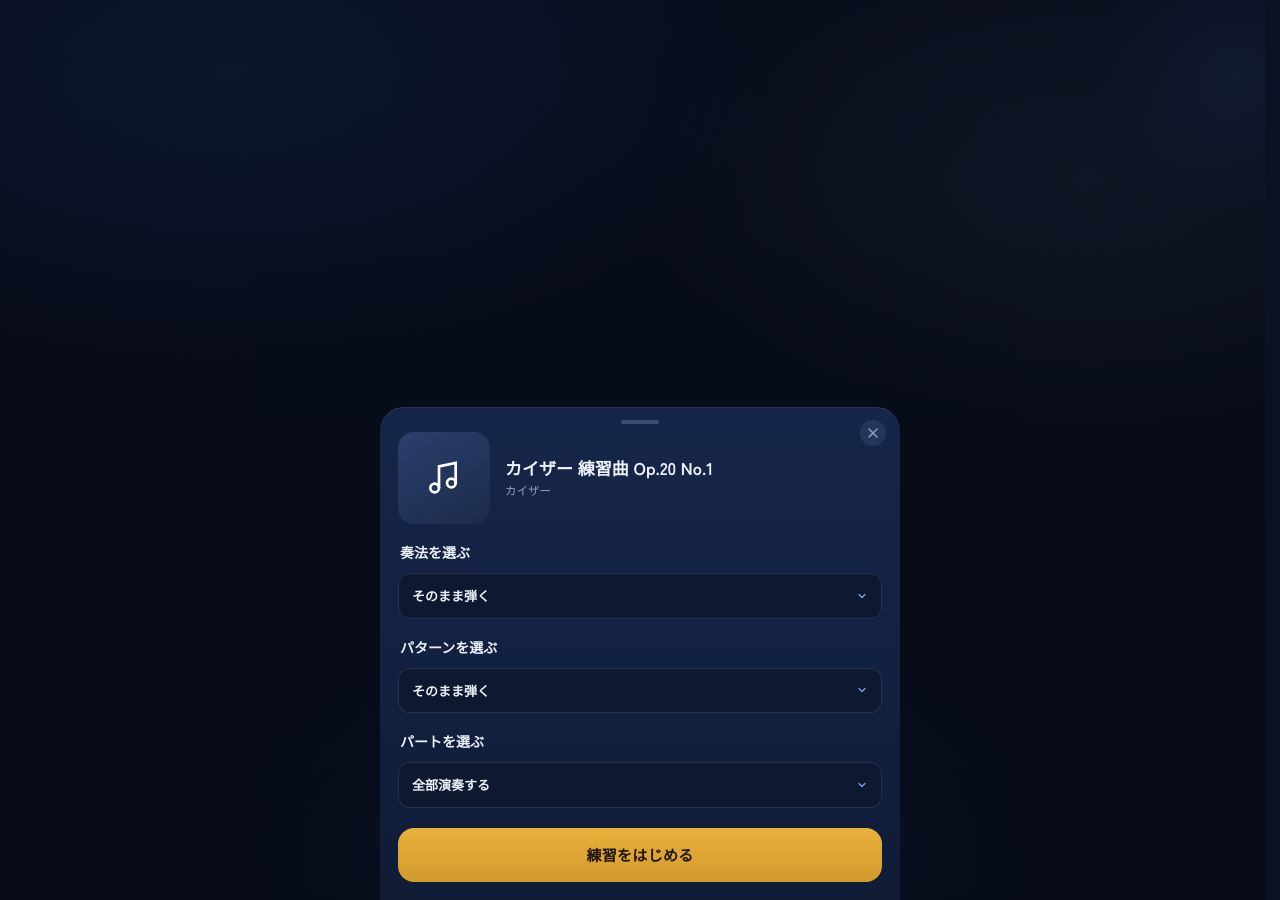
Test: 練習前シート (奏法の通しが無く、リズム変種だけがその奏法に置かれている) › 奏法欄で 連続スピッカート が「パターンのみ」として選べ、選ぶとパターン欄にリズム変種が出る
Select "連続スピッカート ・ パターンのみ" in the 1st dropdown at (640, 596), box [398,573,882,618]
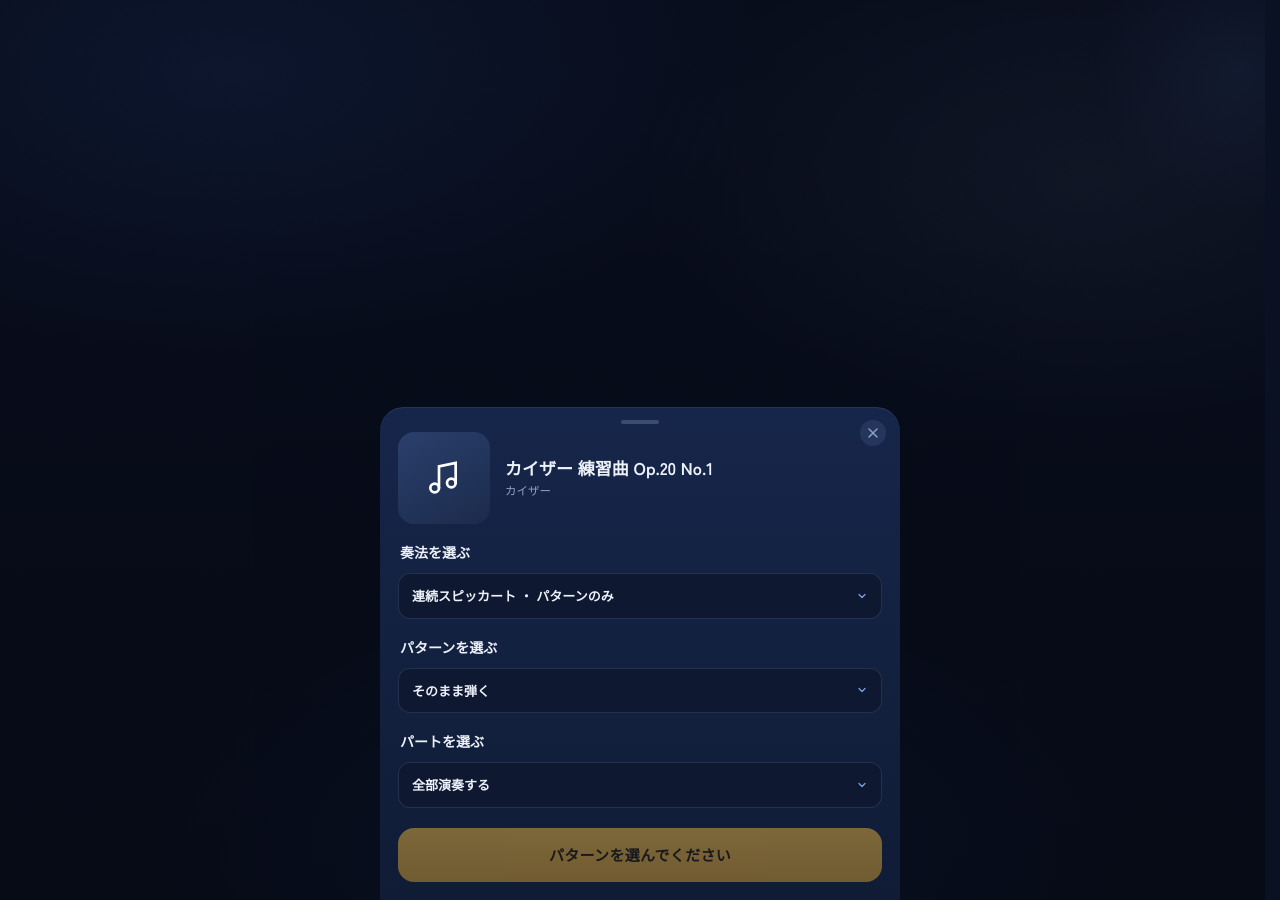
Expected: the text "パターンを選ぶ" is shown, [400,636,497,656]
Expected: the button "パターンを選んでください" is shown, [398,828,882,882]
Select "連続スピッカート" in the 2nd dropdown at (640, 690), box [398,668,882,713]
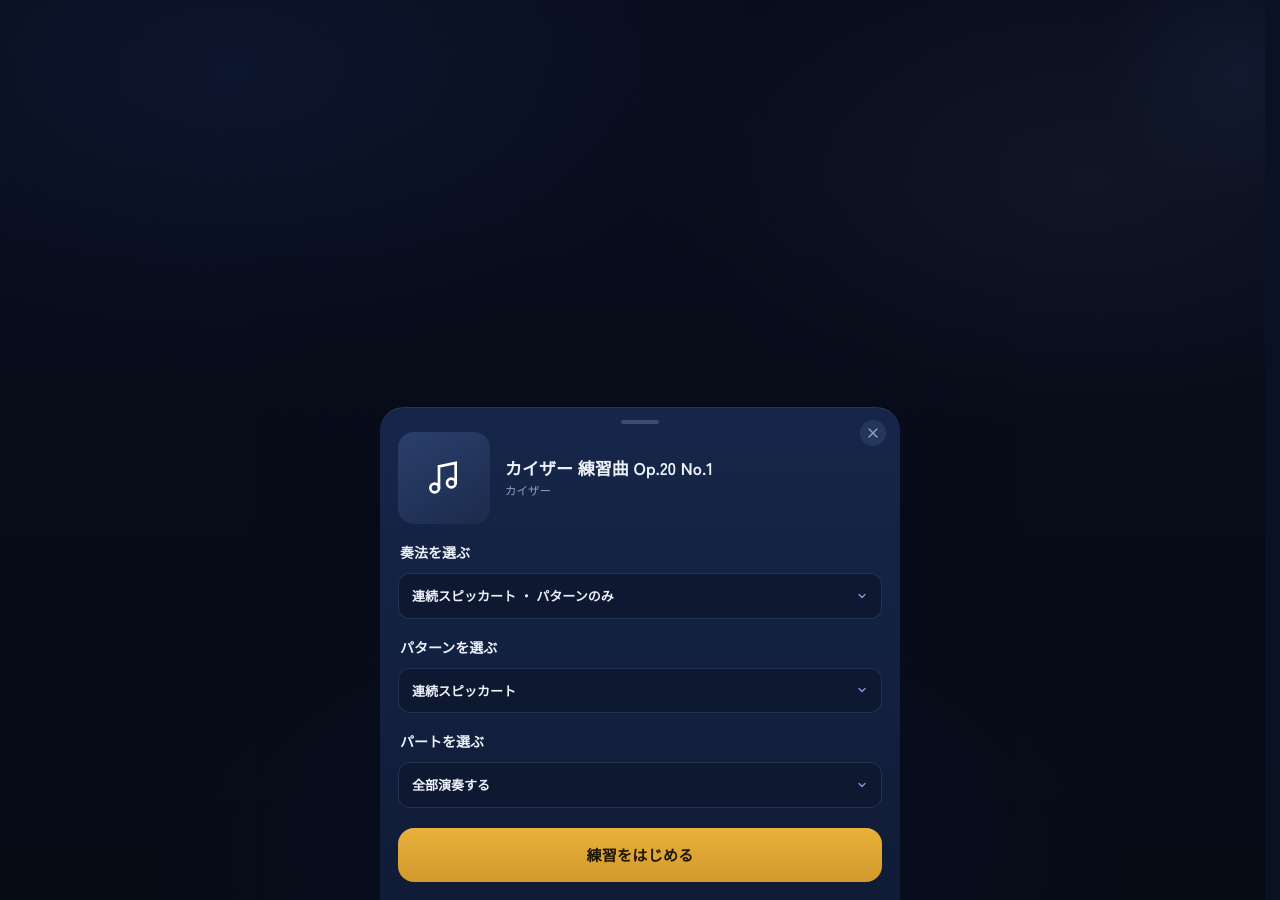
Expected: the text "奏法を選ぶ" is shown, [400,542,470,562]
Expected: the button "練習をはじめる" is shown, [398,828,882,882]
